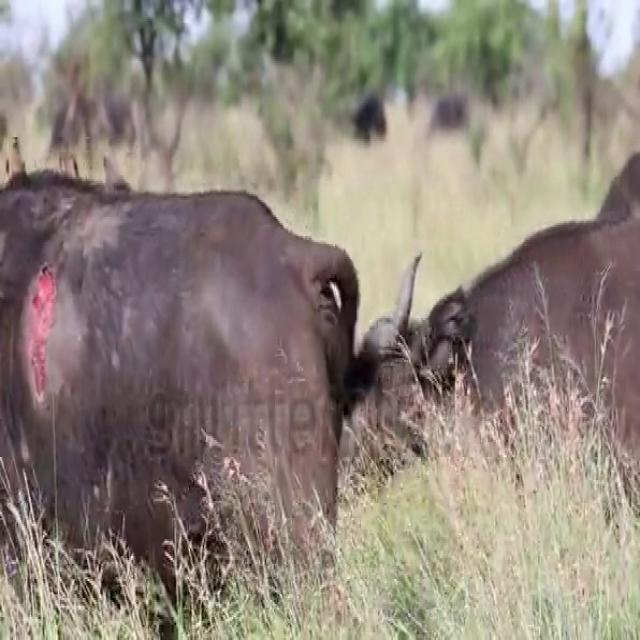injured-animals: (4, 171, 509, 640)
